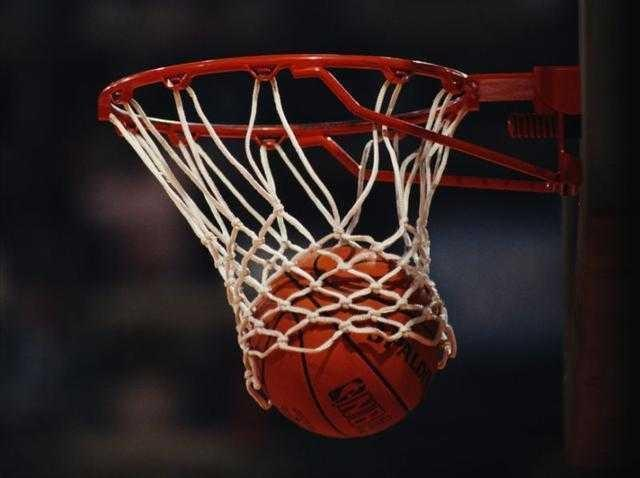ball: (244, 238, 451, 440)
rim: (94, 51, 474, 414)
